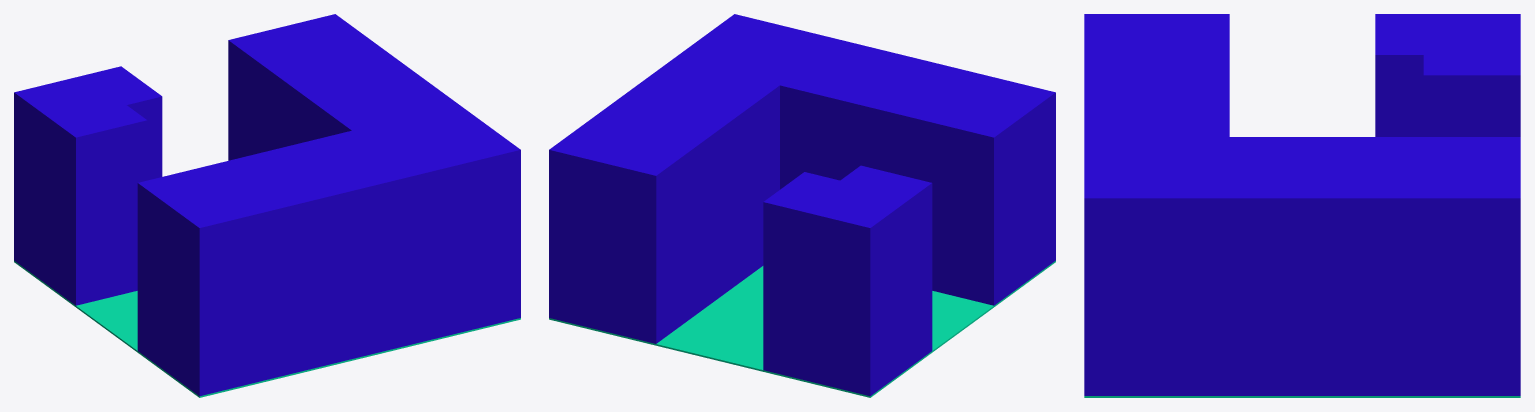
The model's file is Block2.glb.
3 renders of one model, left to right at view 1: azimuth 30°, elevation 25°; view 2: azimuth 150°, elevation 25°; view 3: azimuth 270°, elevation 25°, orthographic. The views are drawn at different scales.
Parts seen in each view (by area): view 1: 2Way; view 2: 2Way; view 3: 2Way.
Boxes of the visible parts, x1=… form: 2Way: x1=14, y1=14, x2=520, y2=397; 2Way: x1=549, y1=14, x2=1055, y2=397; 2Way: x1=1084, y1=14, x2=1520, y2=397.
Bounding box in the file's own units: 2 × 1.01 × 2.
